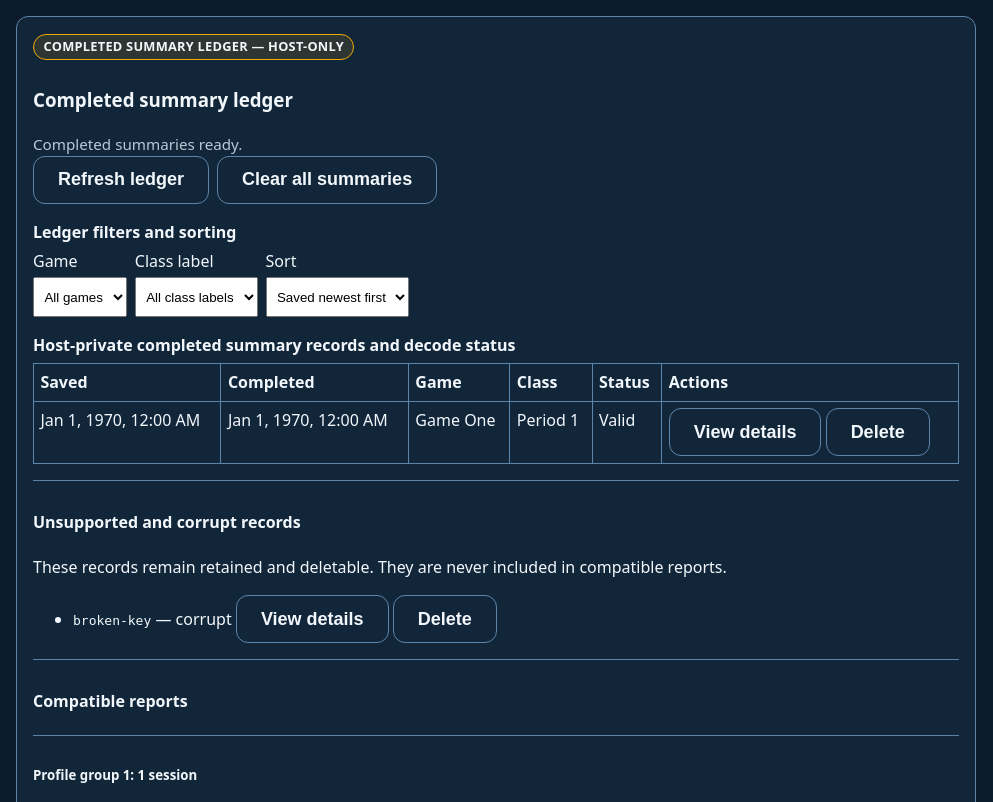
Test case: CompletedSummaryLedgerPanel › lists valid and corrupt records and hides corrupt metrics
Expected: the table "Host-private completed summary" is shown, [33,334,959,464]
Expected: the text "Game One" is shown, [408,401,510,463]
Click the button "View details" in the row of "broken-key" at (312, 619), box [236,595,389,643]
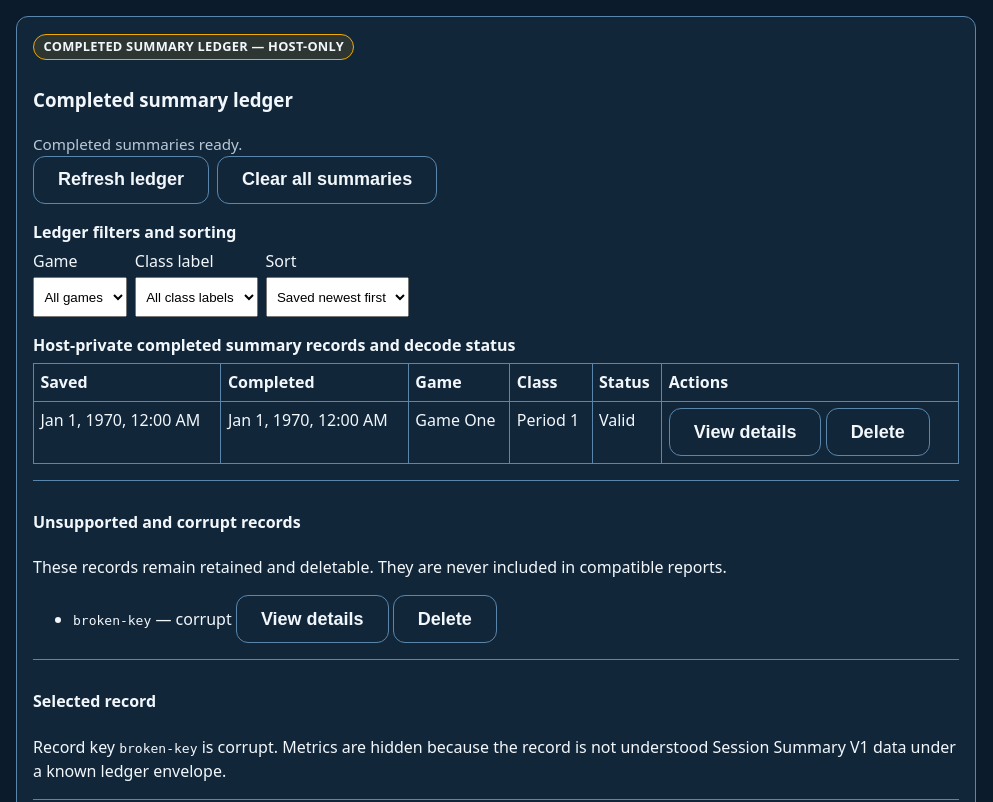
Result: the text "Metrics are hidden" is shown at [33,736,956,782]
